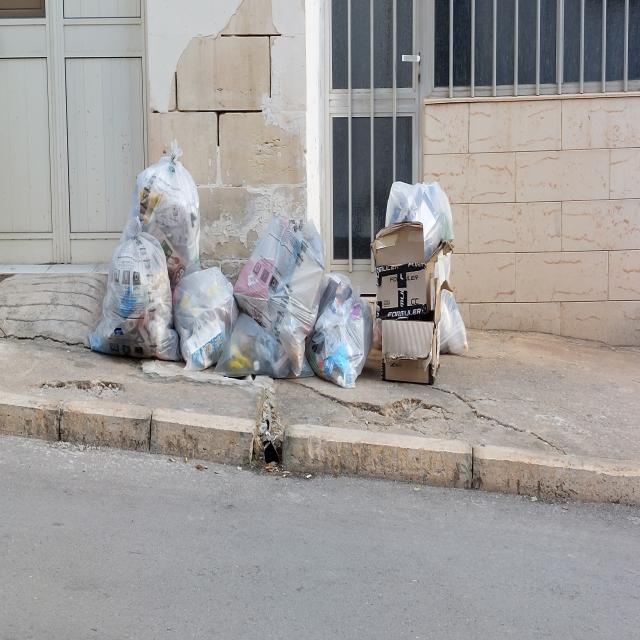Other: (371, 225, 450, 314), (382, 315, 445, 388)
Recycled Waste -Grey or Green Bag-: (236, 215, 327, 377), (89, 212, 181, 370), (118, 141, 201, 276), (314, 271, 375, 391), (174, 265, 237, 375), (214, 318, 314, 381), (383, 181, 458, 258), (438, 282, 471, 361)
